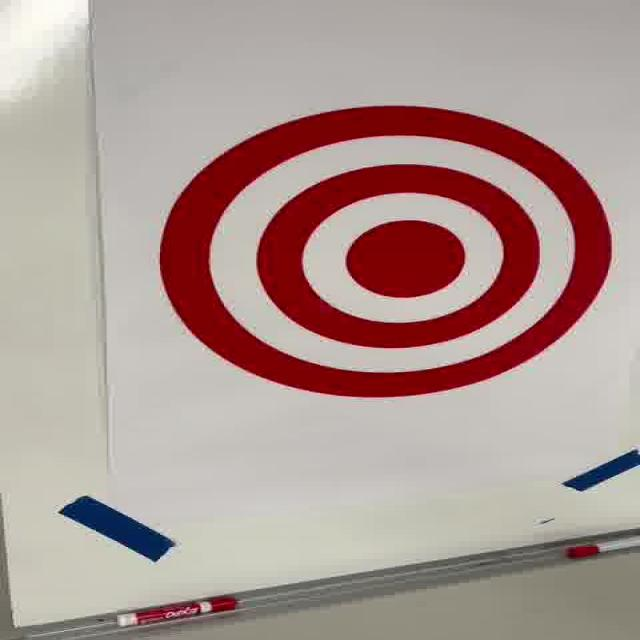target_red: (157, 106, 615, 397)
